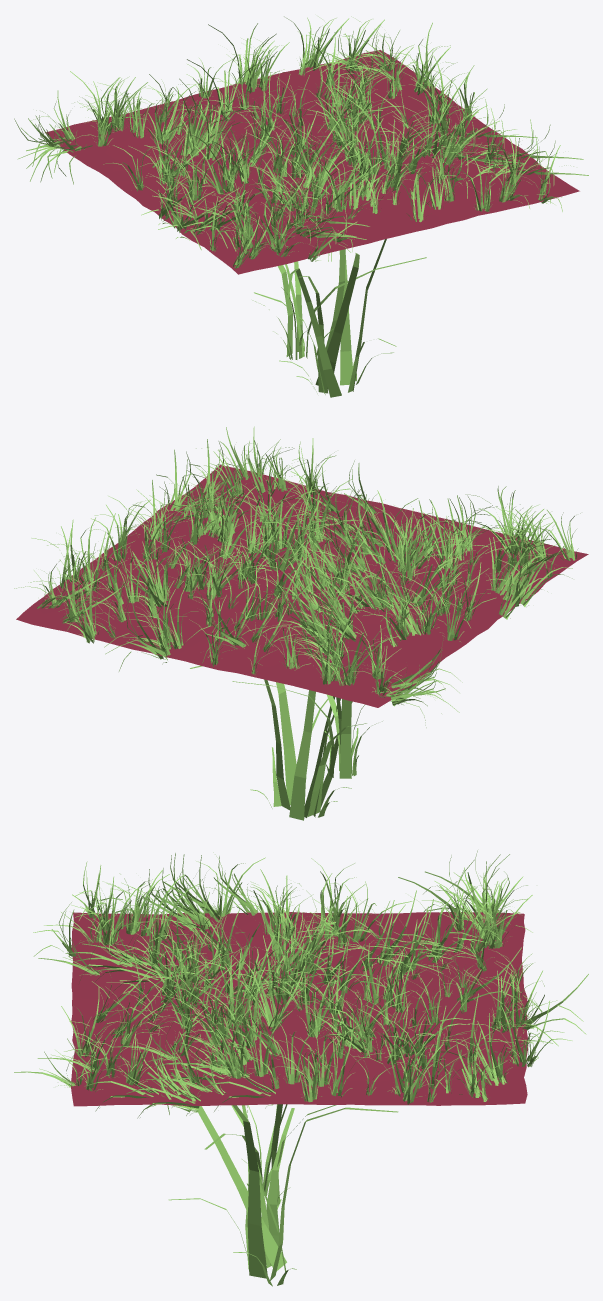
Rendered from Grass4.fbx.
3 views of the same model, one above another, from view 1: azimuth 30°, elevation 25°; view 2: azimuth 150°, elevation 25°; view 3: azimuth 270°, elevation 25° (orthographic). The views are drawn at different scales.
Visible parts, largest first — view 1: Plane, Plane.008, Plane.012, Plane.219, Plane.041, Plane.075, Plane.217; view 2: Plane, Plane.008, Plane.012, Plane.097, Plane.277, Plane.077, Plane.010, Plane.237, Plane.219, Plane.019; view 3: Plane, Plane.008, Plane.012, Plane.002, Plane.004, Plane.111, Plane.113, Plane.105, Plane.099, Plane.139, Plane.075, Plane.010 (+3 smaller).
Part boxes in pixels (x1,y1,x2,y2): Plane: (46,50,579,274); Plane.008: (254,239,396,397); Plane.012: (252,257,426,359); Plane.219: (180,138,242,194); Plane.041: (187,55,254,115); Plane.075: (306,16,353,70); Plane.217: (189,98,249,160); Plane: (16,465,588,707); Plane.008: (190,665,366,820); Plane.012: (232,681,382,778); Plane.097: (225,493,294,553); Plane.277: (390,648,459,706); Plane.077: (104,601,168,671); Plane.010: (156,449,205,511); Plane.237: (433,584,496,641); Plane.219: (411,531,461,606); Plane.019: (121,551,170,607); Plane: (71,912,528,1106); Plane.008: (168,1013,398,1286); Plane.012: (204,1104,336,1205); Plane.002: (222,941,296,1026); Plane.004: (435,854,509,939); Plane.111: (258,1019,329,1084); Plane.113: (273,1034,339,1102); Plane.105: (394,1043,445,1104); Plane.099: (224,1010,292,1076); Plane.139: (195,1014,262,1078); Plane.075: (468,998,543,1066); Plane.010: (126,1061,200,1118).
Size of the model in its own units: 247 by 160 by 254.
